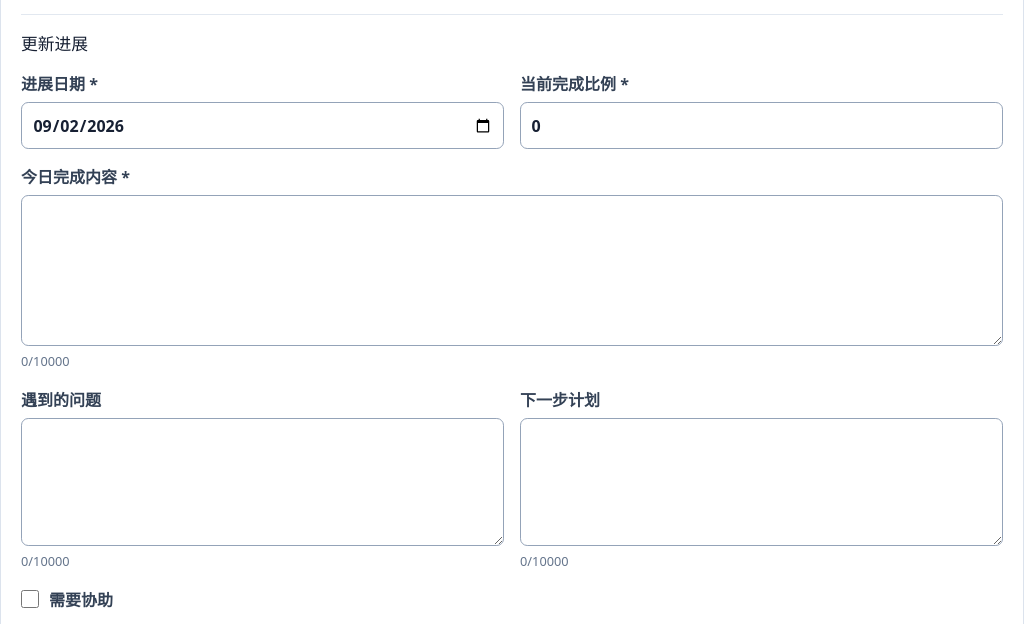
Scenario: 任务页面 › 进展内标记阻塞必须经过确认并刷新 Task 3.3 block 关联
(page scrolled)
Type "Block work" into the text box labelled "今日完成内容 *" at (512, 271), box [21, 195, 1003, 346]
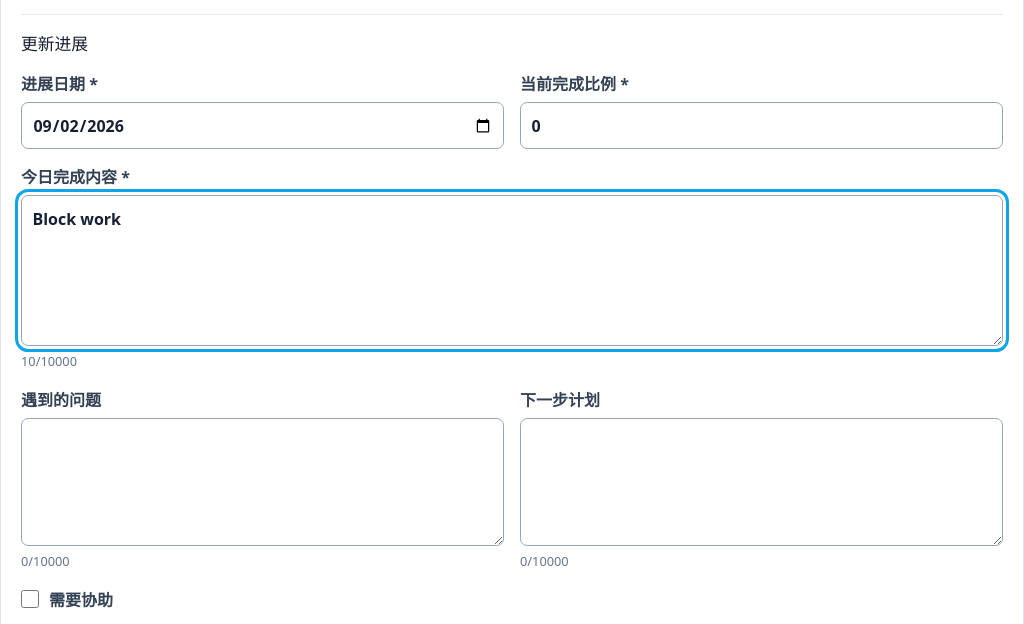
Replace the text in the number field labelled "当前完成比例 *" with "50" at (762, 126), box [520, 102, 1003, 149]
(page scrolled)
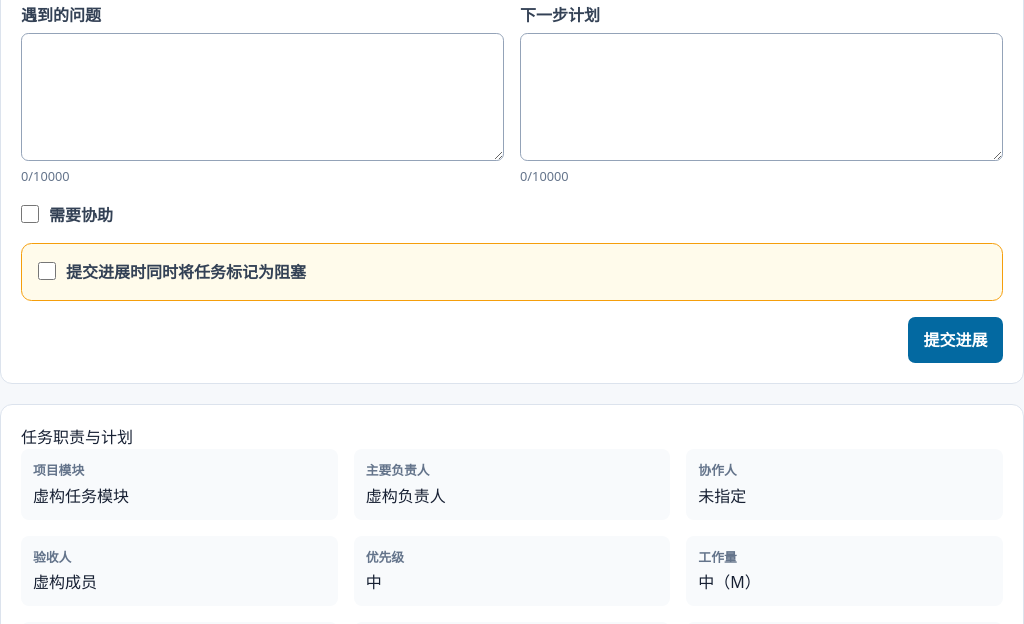
Click the checkbox labelled "提交进展时同时将任务标记为阻塞" at (47, 271), box [38, 262, 56, 280]
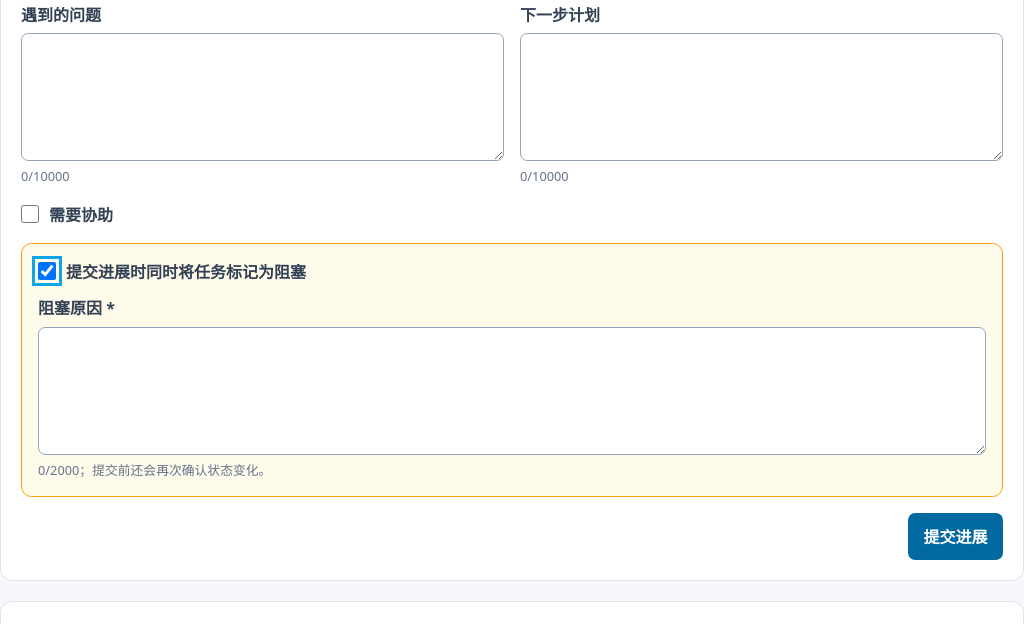
Type "Fictional blocker" into the text box labelled "阻塞原因 *" at (512, 391), box [38, 327, 986, 455]
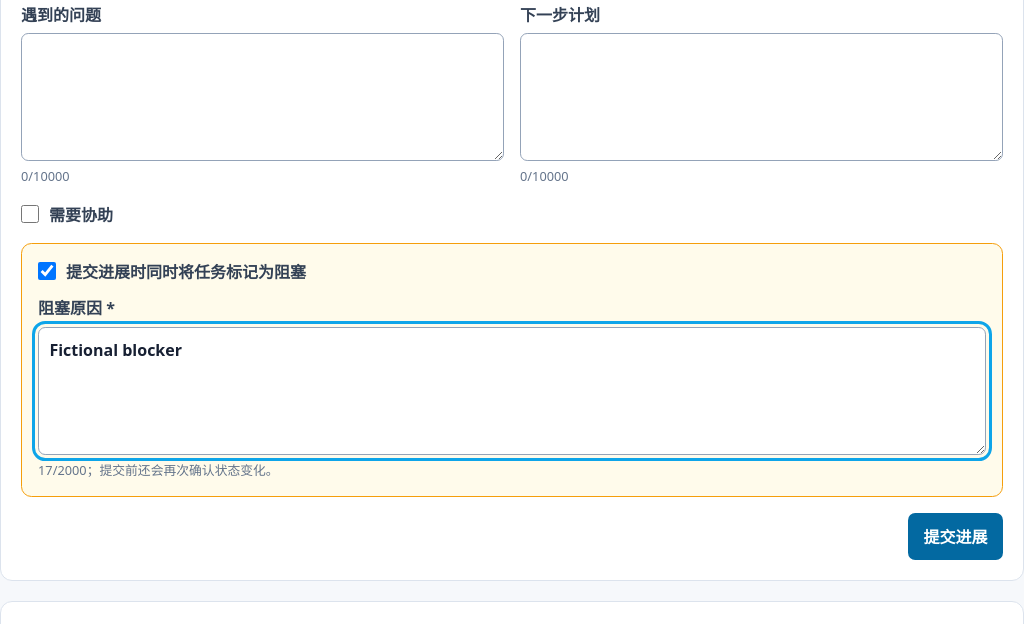
Click the button "提交进展" at (956, 537), box [908, 513, 1003, 560]
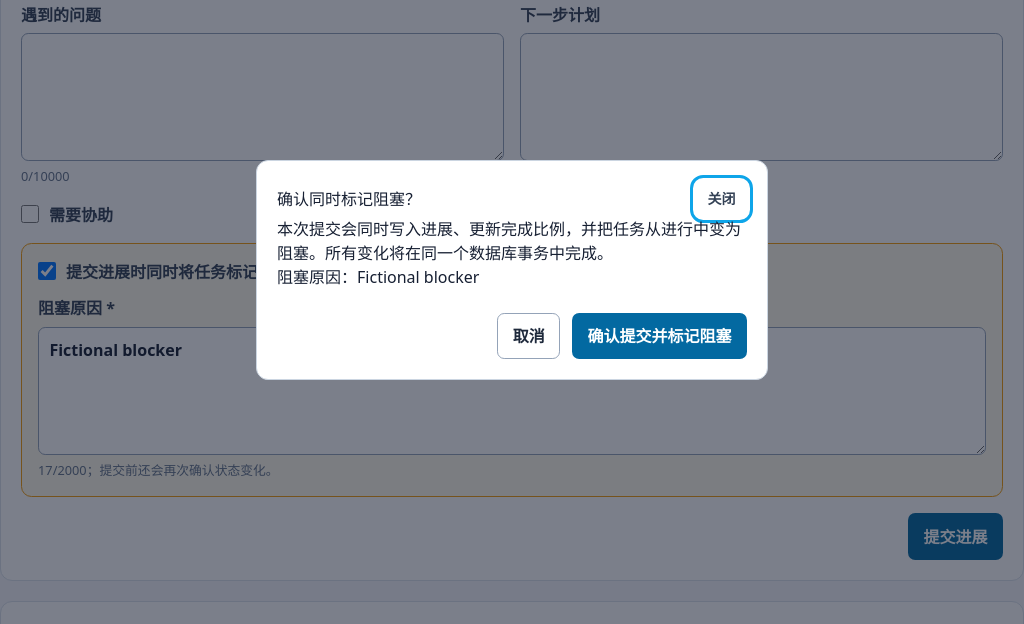
Now the heading "确认同时标记阻塞？" is shown, box [277, 187, 421, 211]
Click the button "确认提交并标记阻塞" at (660, 336), box [572, 313, 747, 359]
(page scrolled)
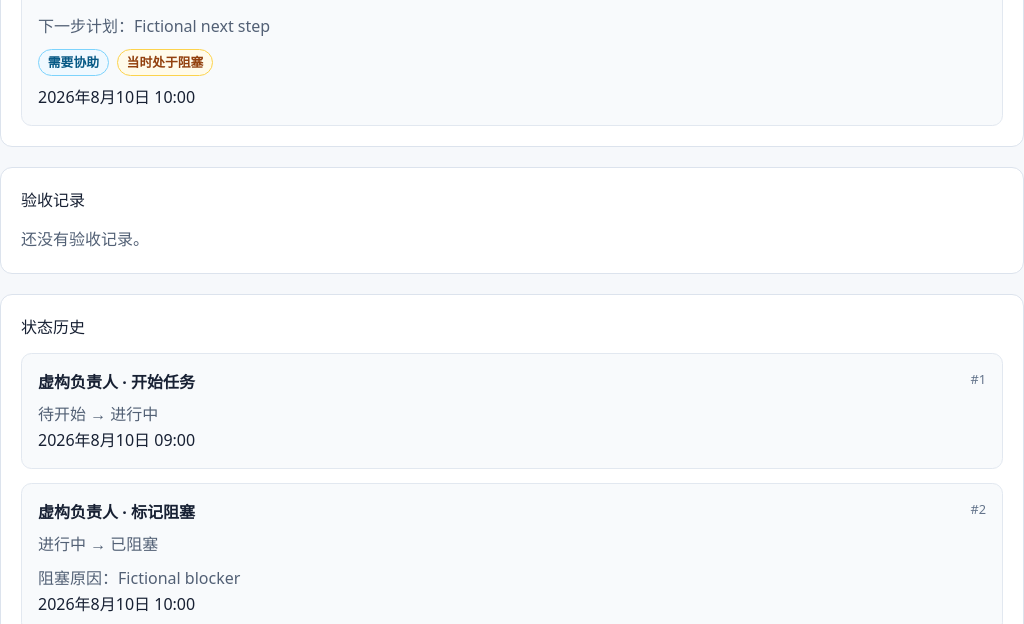
Now the text "当时处于阻塞" is shown, box [117, 49, 213, 76]
Now the text "虚构负责人 · 标记阻塞" is shown, box [38, 500, 195, 524]
